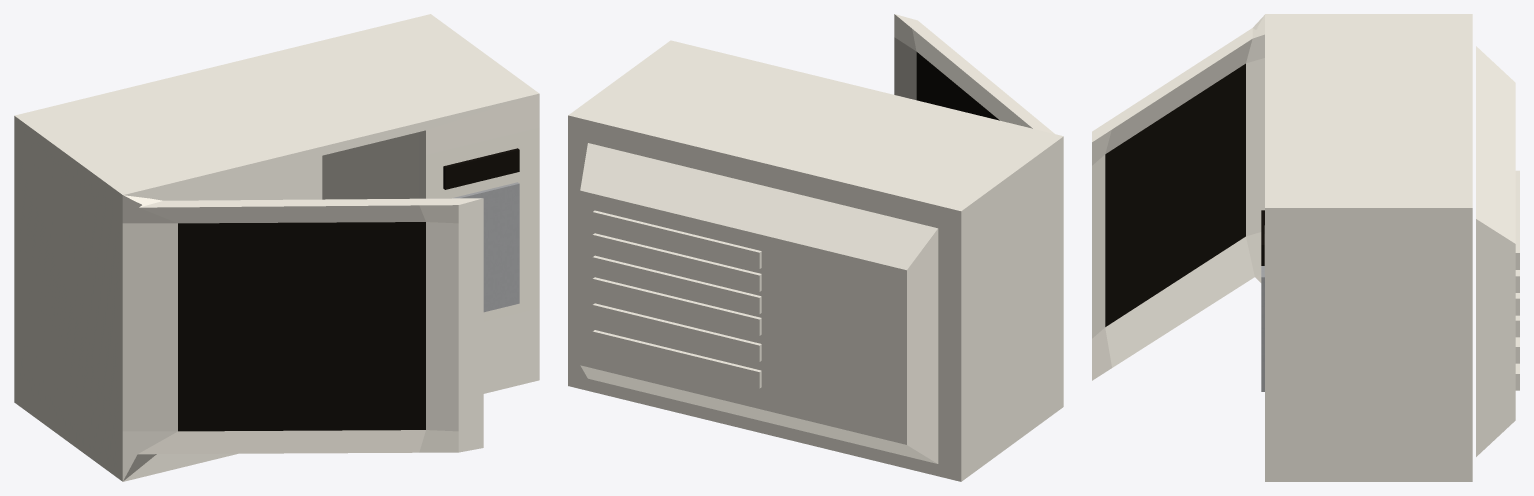
Rendered from MicrowaveProp.fbx.
The picture shows the model from 3 angles, left to right: view 1: azimuth 30°, elevation 25°; view 2: azimuth 150°, elevation 25°; view 3: azimuth 270°, elevation 25°; orthographic projection. The views are drawn at different scales.
Parts seen in each view (by area): view 1: Cube; view 2: Cube; view 3: Cube.
Part boxes in pixels (x1=…): Cube: x1=14, y1=14, x2=539, y2=481; Cube: x1=568, y1=14, x2=1063, y2=481; Cube: x1=1092, y1=14, x2=1519, y2=481.
Bounding box in the file's own units: 314 × 207 × 292.
